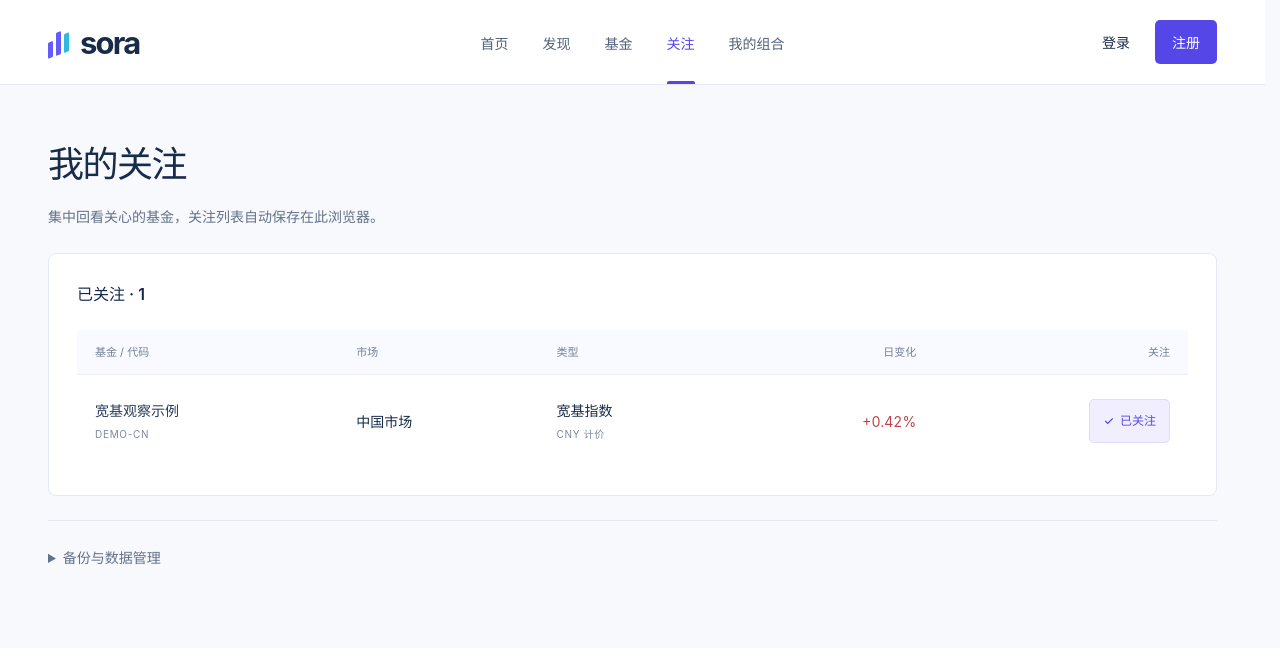
continuous product journeys › returns to watchlist rather than sending a watchlist user to the library
Click the link "宽基观察示例" at (137,411), box [95,402,179,420]
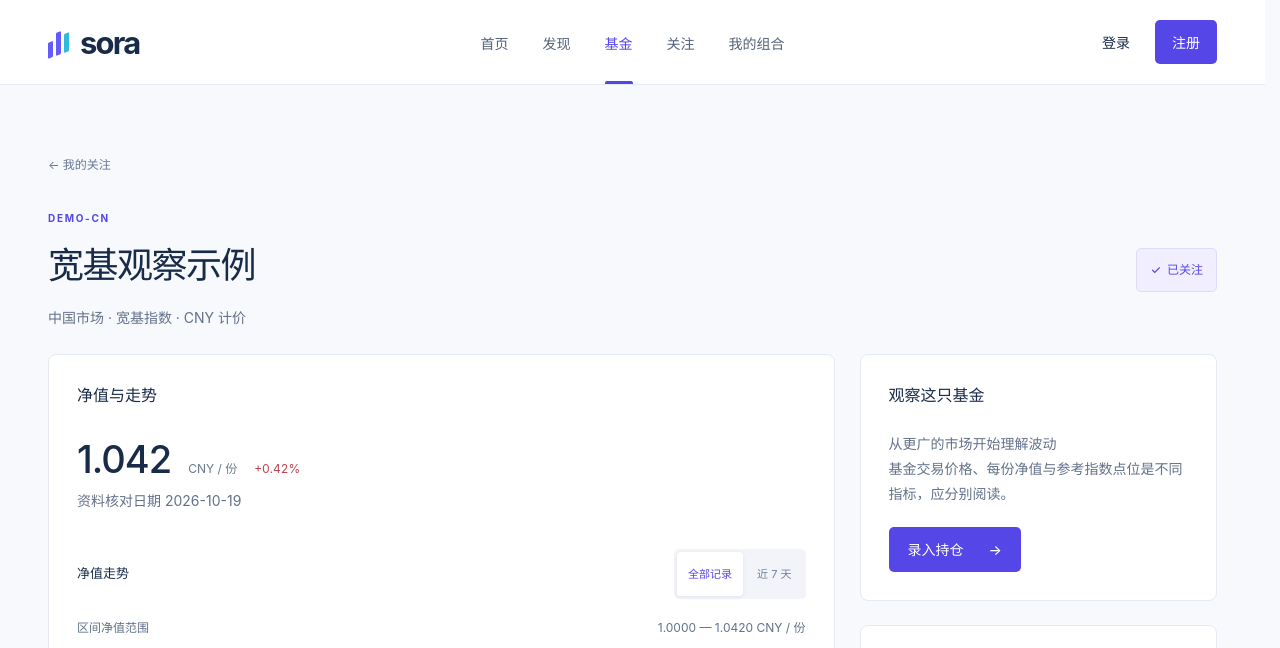
Click the link "← 我的关注" at (79,164), box [48,157,111,172]
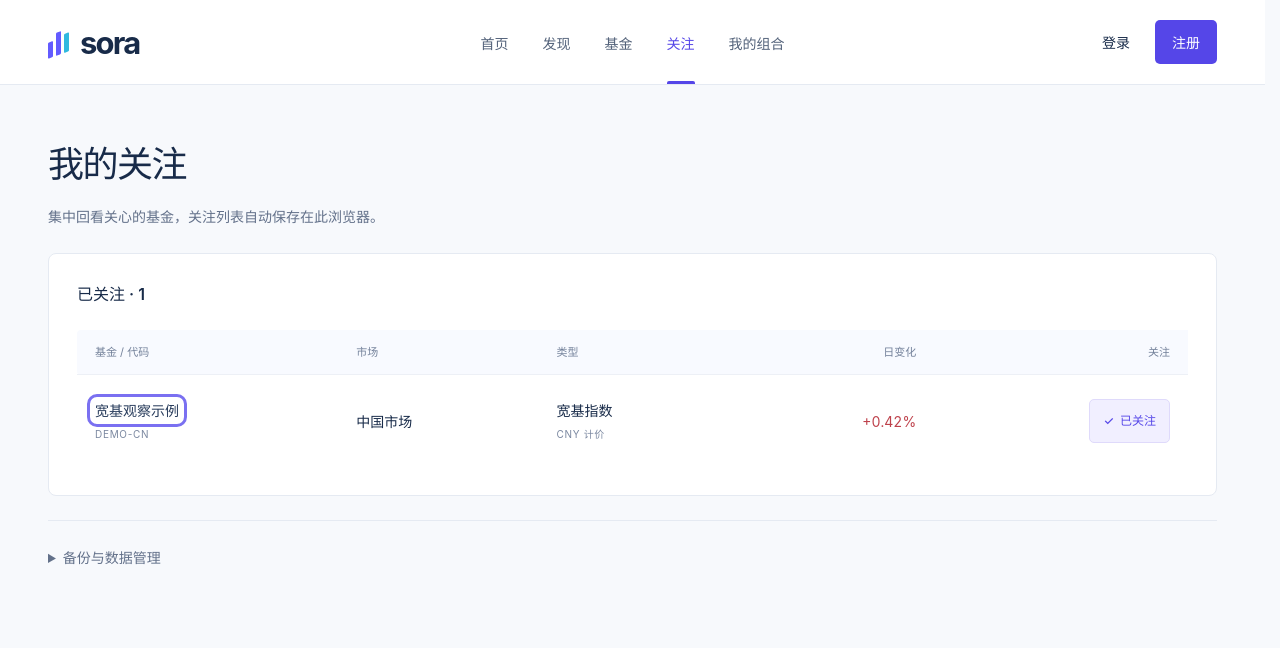
Now the heading "我的关注" is shown, box [48,142,186,186]
